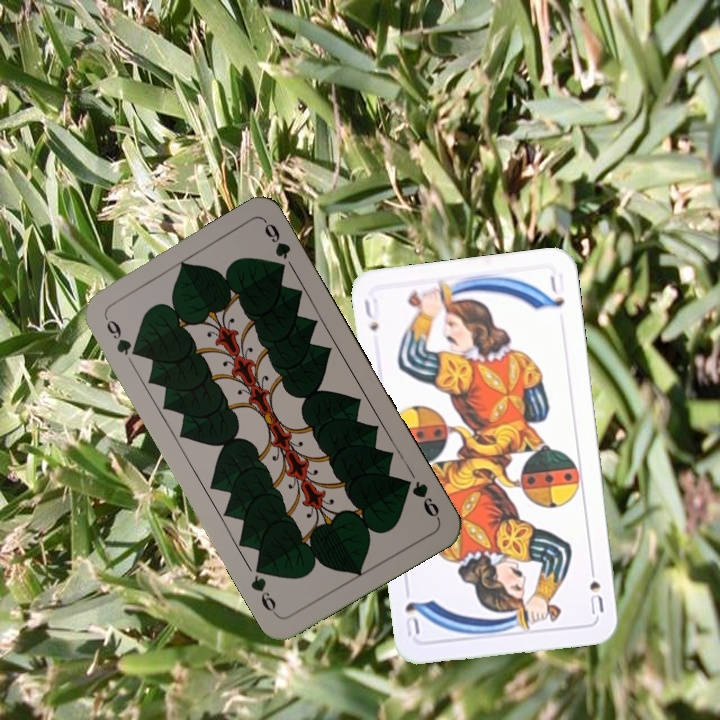G9: (398, 474, 443, 523), (100, 312, 141, 359)
SU: (585, 559, 606, 617), (360, 294, 382, 334)
